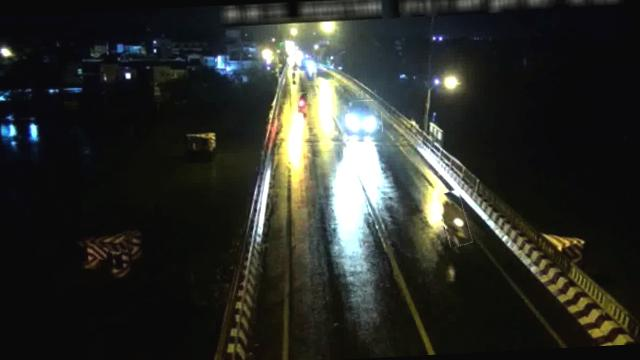Bike: (438, 189, 469, 246), (296, 92, 308, 114)
Car: (336, 100, 382, 136)
